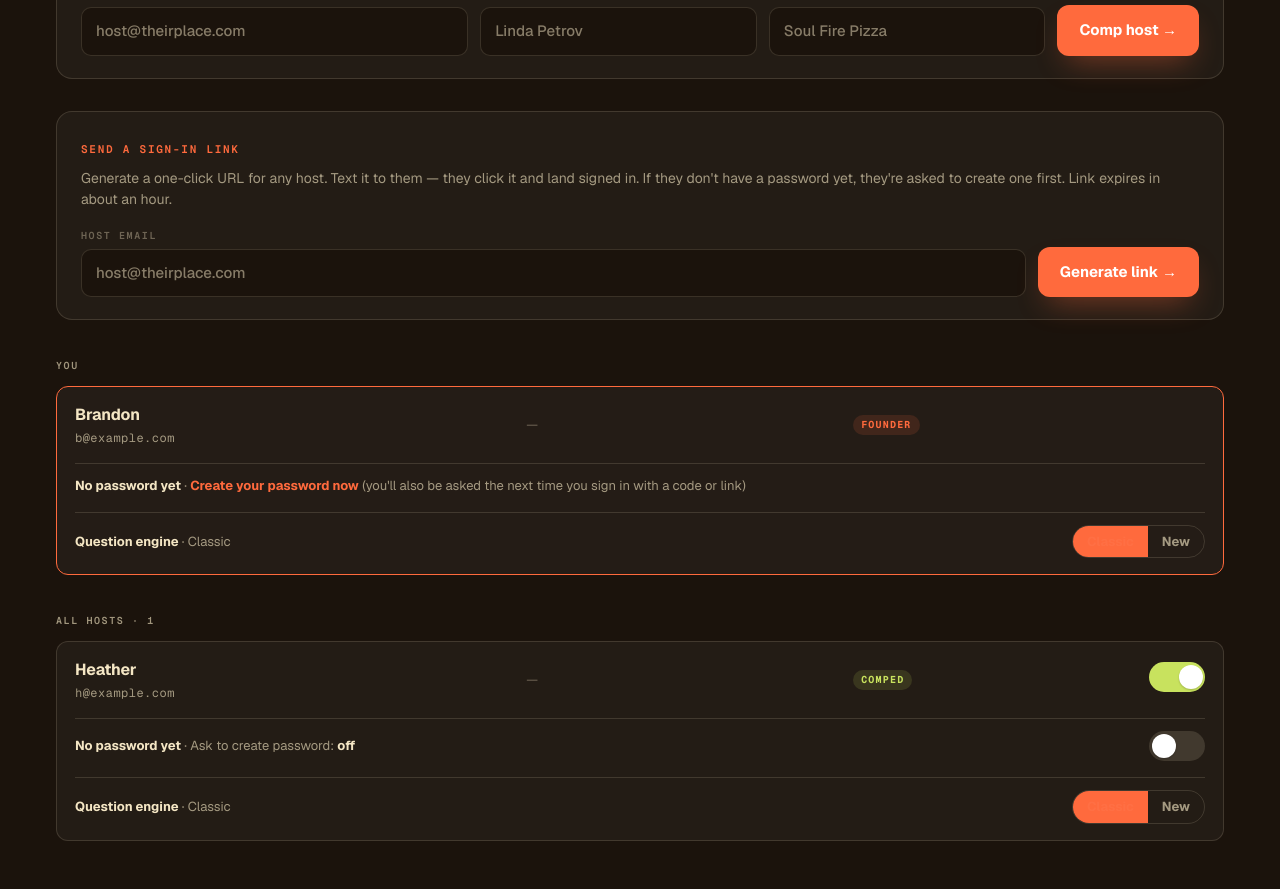
Scenario: Question engine switch on /host/admin › a failed save goes back to Classic and shows the reason
(page scrolled)
Click the button with test id "host-question-engine-new-host-h" at (1176, 807), box [1148,791,1204,823]
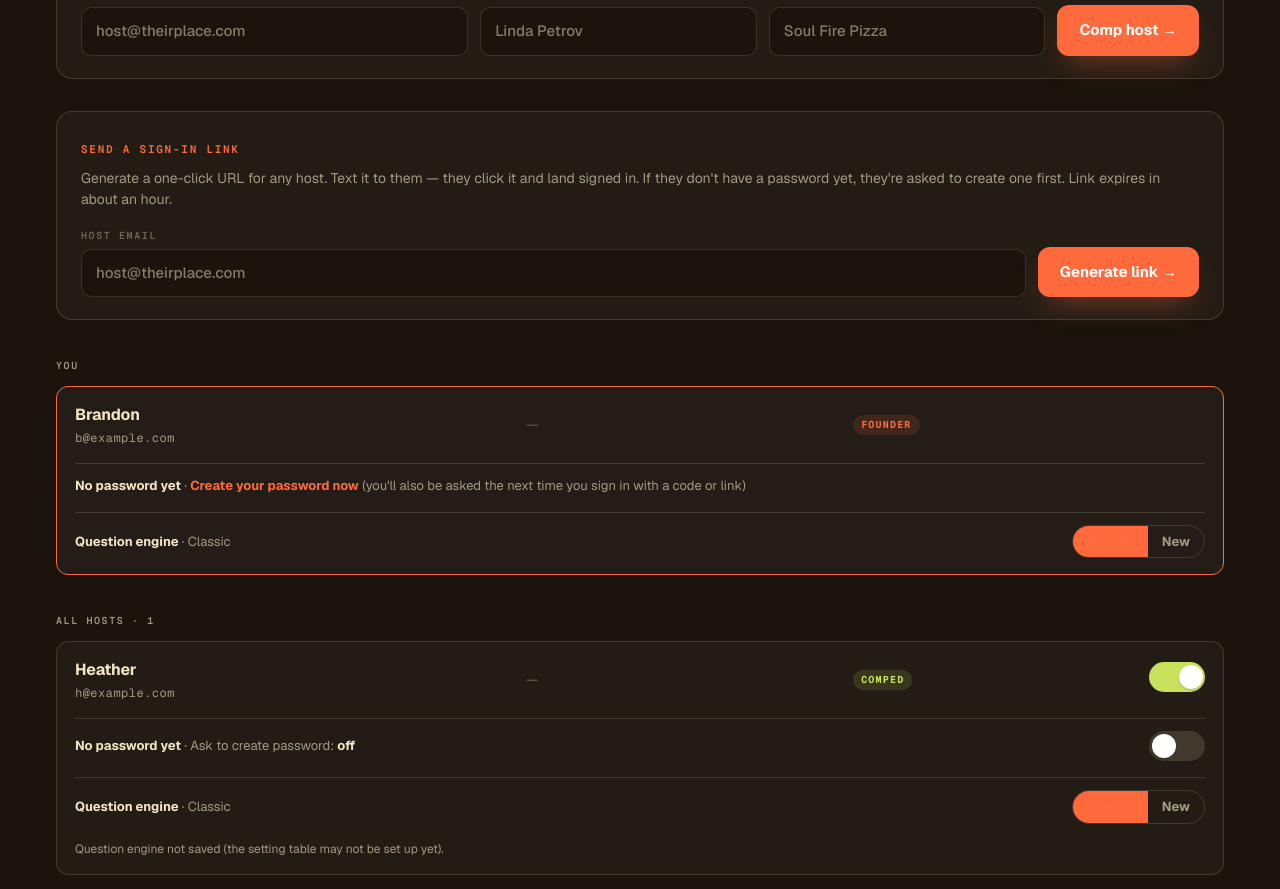
Result: the message with test id "host-question-engine-error-host-h" shows "not saved" at [75,841,444,857]
